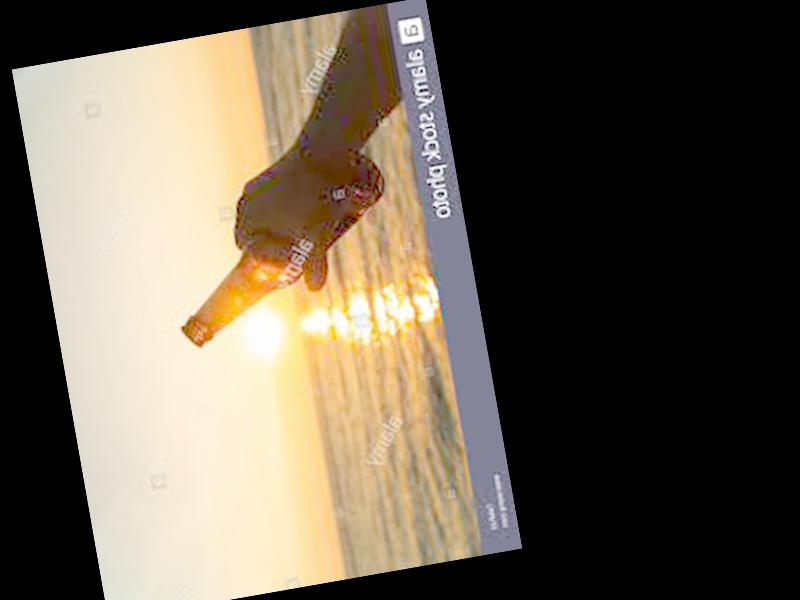Beer: (152, 144, 407, 350)
